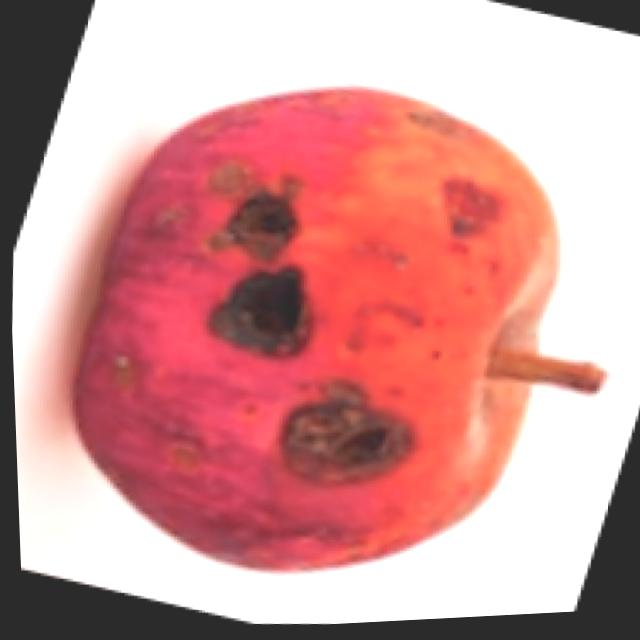organik: (57, 12, 640, 545)
